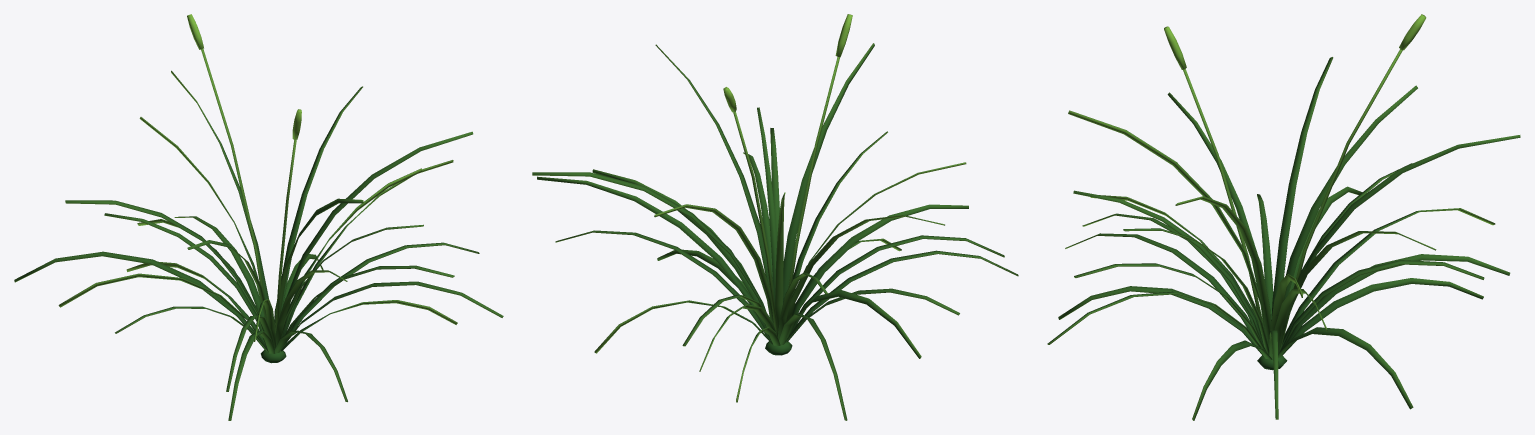
File: grassclump.lod0.glb
3 renders of one model, left to right at view 1: azimuth 30°, elevation 25°; view 2: azimuth 150°, elevation 25°; view 3: azimuth 270°, elevation 25°, orthographic. The views are drawn at different scales.
Parts seen in each view (by area): view 1: grassclump_s1_lod0; view 2: grassclump_s1_lod0; view 3: grassclump_s1_lod0.
Boxes of the visible parts, x1,y1,x2,y2 form: grassclump_s1_lod0: (14,14,503,420); grassclump_s1_lod0: (532,14,1018,420); grassclump_s1_lod0: (1047,14,1520,420).
Size of the model in its own units: 1.48 by 1.1 by 1.37.
